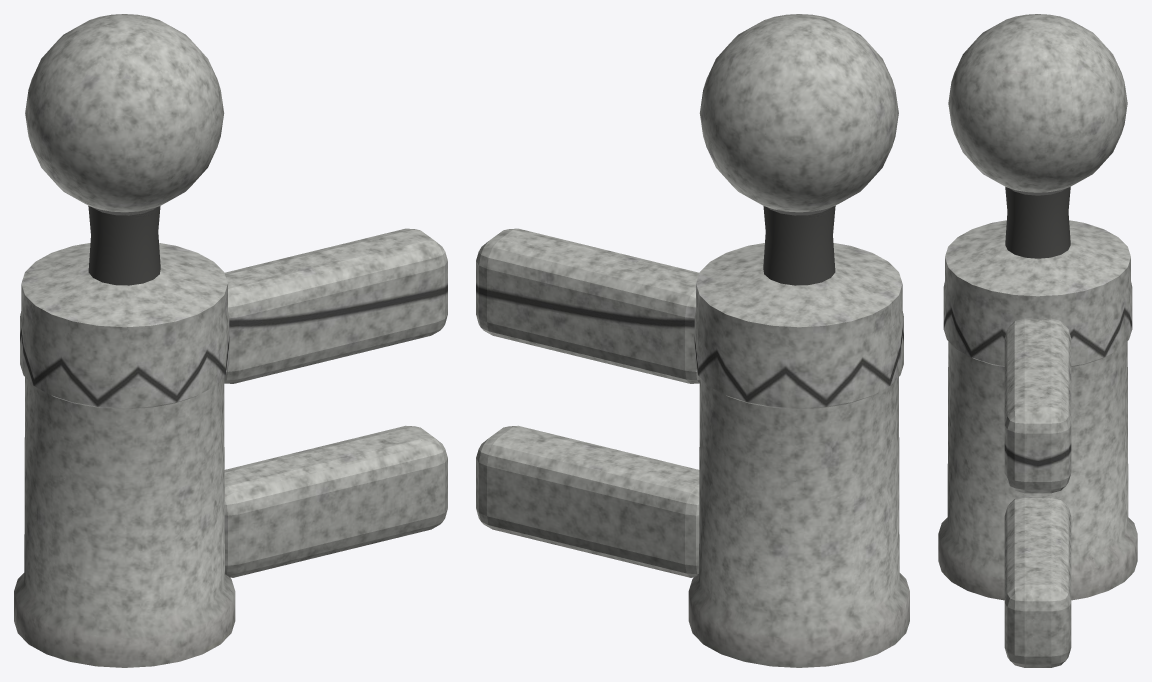
File: balustrade_end_w_hd.glb
3 views of the same model, side by side, from view 1: azimuth 30°, elevation 25°; view 2: azimuth 150°, elevation 25°; view 3: azimuth 270°, elevation 25° (orthographic). The views are drawn at different scales.
Visible parts, largest first — view 1: balustrade_end_w; view 2: balustrade_end_w; view 3: balustrade_end_w.
Boxes of the visible parts, <box> form: balustrade_end_w: <box>14,14,447,667</box>; balustrade_end_w: <box>476,14,909,667</box>; balustrade_end_w: <box>938,14,1137,667</box>.
Bounding box in the file's own units: 0.64 × 0.895 × 0.3.
1 material, 1 textured.
